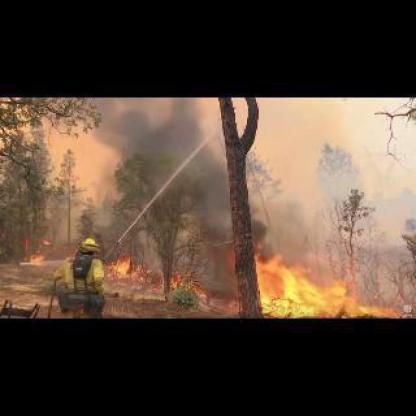fire: (249, 247, 402, 319), (104, 253, 159, 280), (19, 233, 53, 268)
